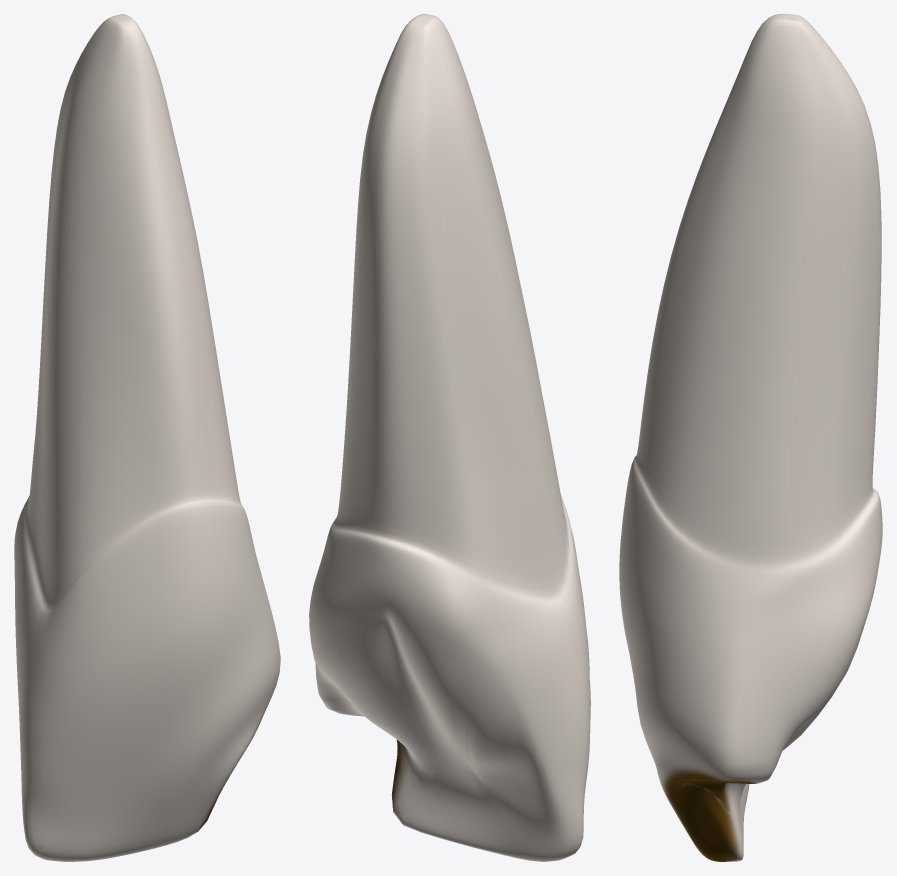
File: Gigi 4.fbx
The picture shows the model from 3 angles, left to right: view 1: azimuth 30°, elevation 25°; view 2: azimuth 150°, elevation 25°; view 3: azimuth 270°, elevation 25°; orthographic projection. The views are drawn at different scales.
Visible parts, largest first — view 1: Group35581.011; view 2: Group35581.011; view 3: Group35581.011.
Part boxes in pixels (x1,y1,x2,y2): Group35581.011: [14, 14, 280, 861]; Group35581.011: [309, 14, 590, 861]; Group35581.011: [619, 14, 882, 861].
Size of the model in its own units: 18.52 by 56.44 by 16.2.
1 material, 1 textured.
